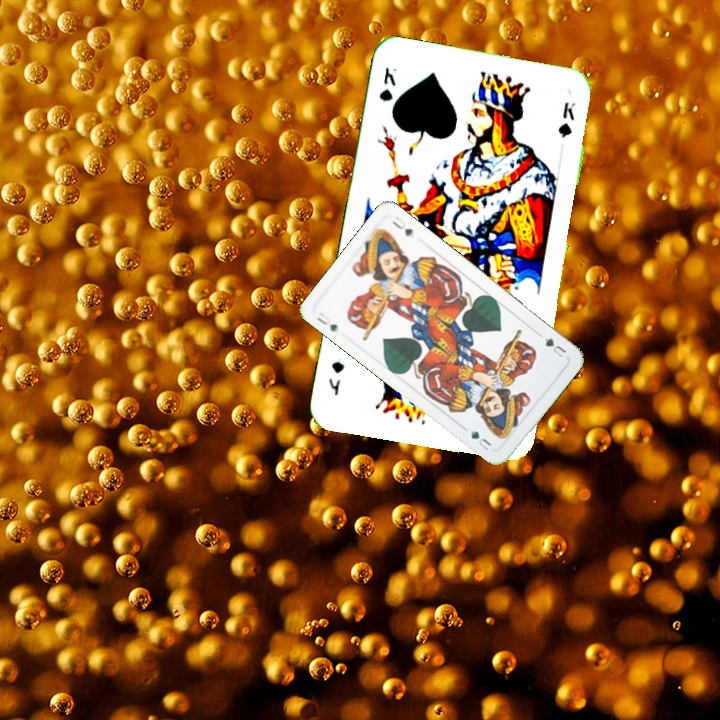GK: (375, 63, 399, 104)
GU: (541, 333, 569, 360), (312, 308, 340, 335)
